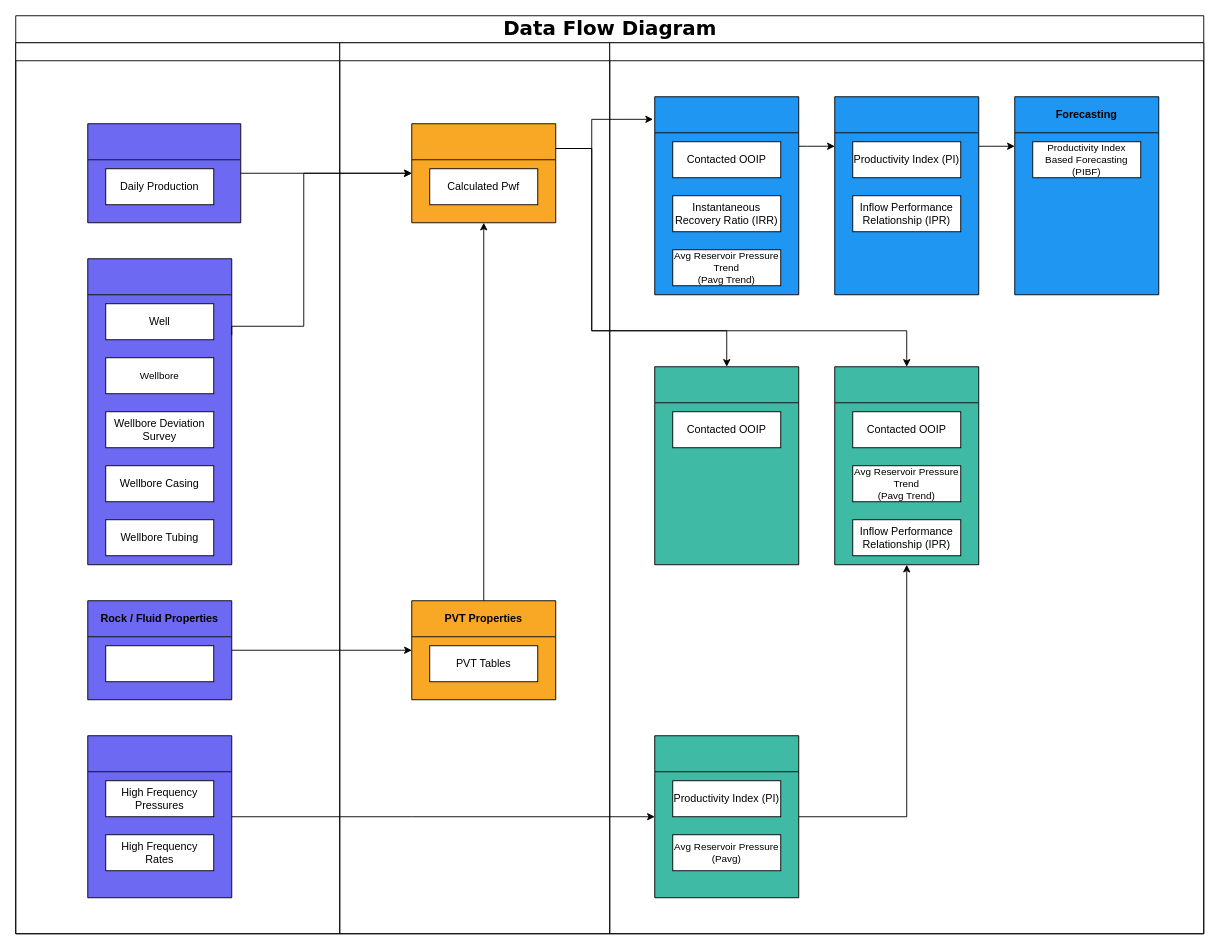
Image size: 1220x950. Some labels were removed from this diagram. Each missing label, with the box of its shape:
Bottomhole Pressures: (411, 123, 556, 223)
Daily Rates / Pressures: (87, 123, 241, 223)
Dynamic Drainage Volume (DDV): (654, 96, 799, 295)
Flowing Material Balance (FMB): (654, 366, 799, 565)
High Frequency Data: (87, 735, 232, 898)
Inputs: (15, 42, 340, 934)
Intermediate Calculations: (339, 42, 610, 934)
Shutin Detection And Analysis: (654, 735, 799, 898)
Static Material Balance (SMB): (834, 366, 979, 565)
Transient Well Performance (TWP): (834, 96, 979, 295)
Well Configuration: (87, 258, 232, 565)
Wellbore Formation: (105, 645, 214, 682)
Workflows: (609, 42, 1204, 934)
